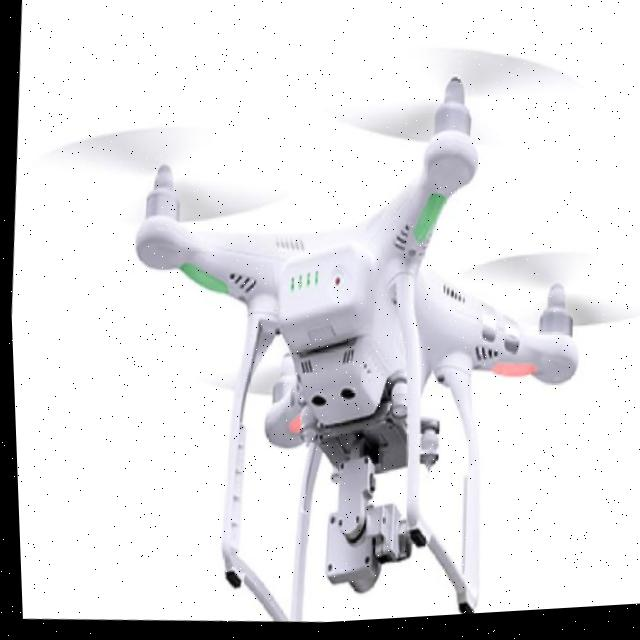drones: (4, 0, 640, 640)
